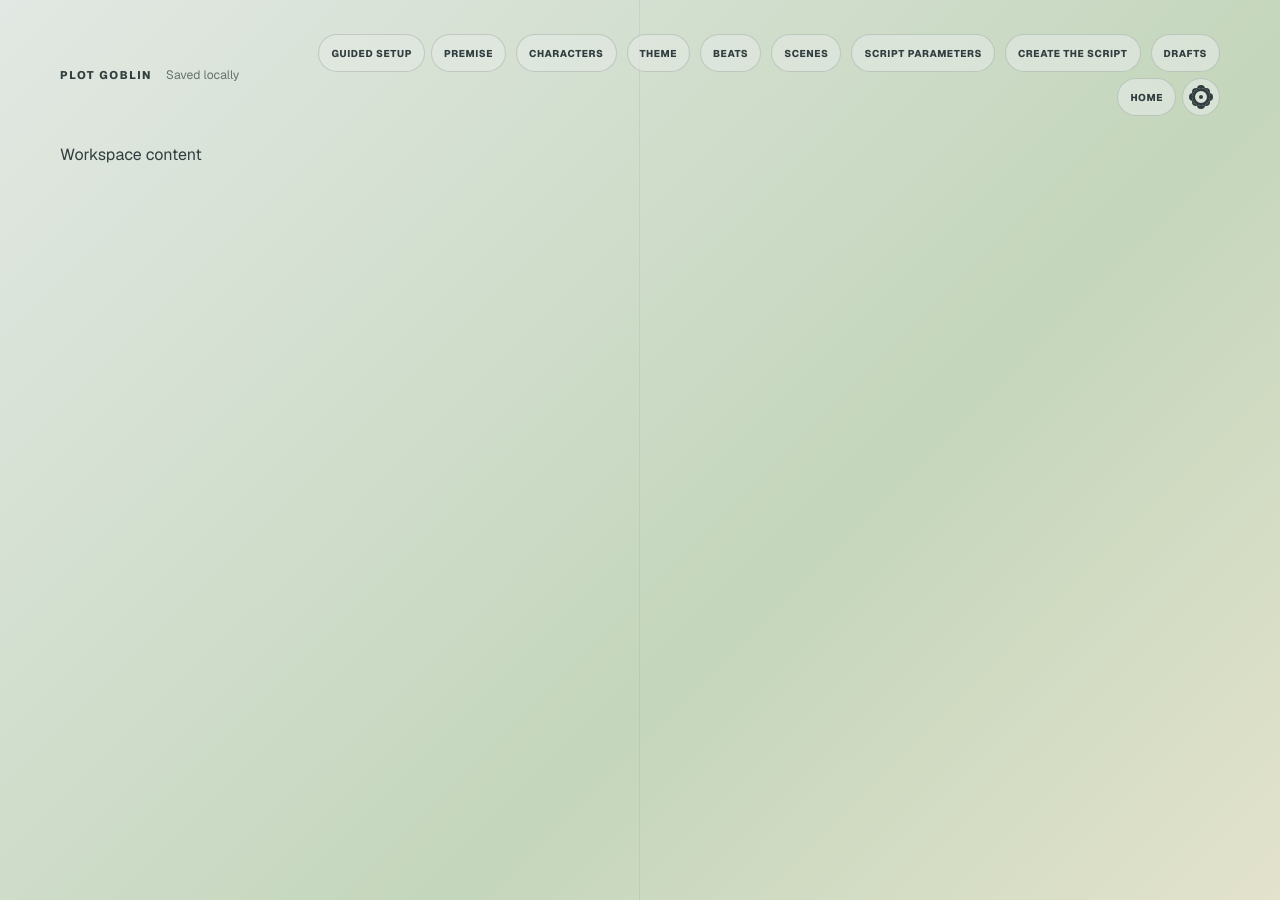
Scenario: WorkspaceShell › tests and saves a bridge access key from settings
This screenshot has width=1280, height=900.
Click the button named "Settings". click: [1201, 97]
box: [1182,78,1220,116]
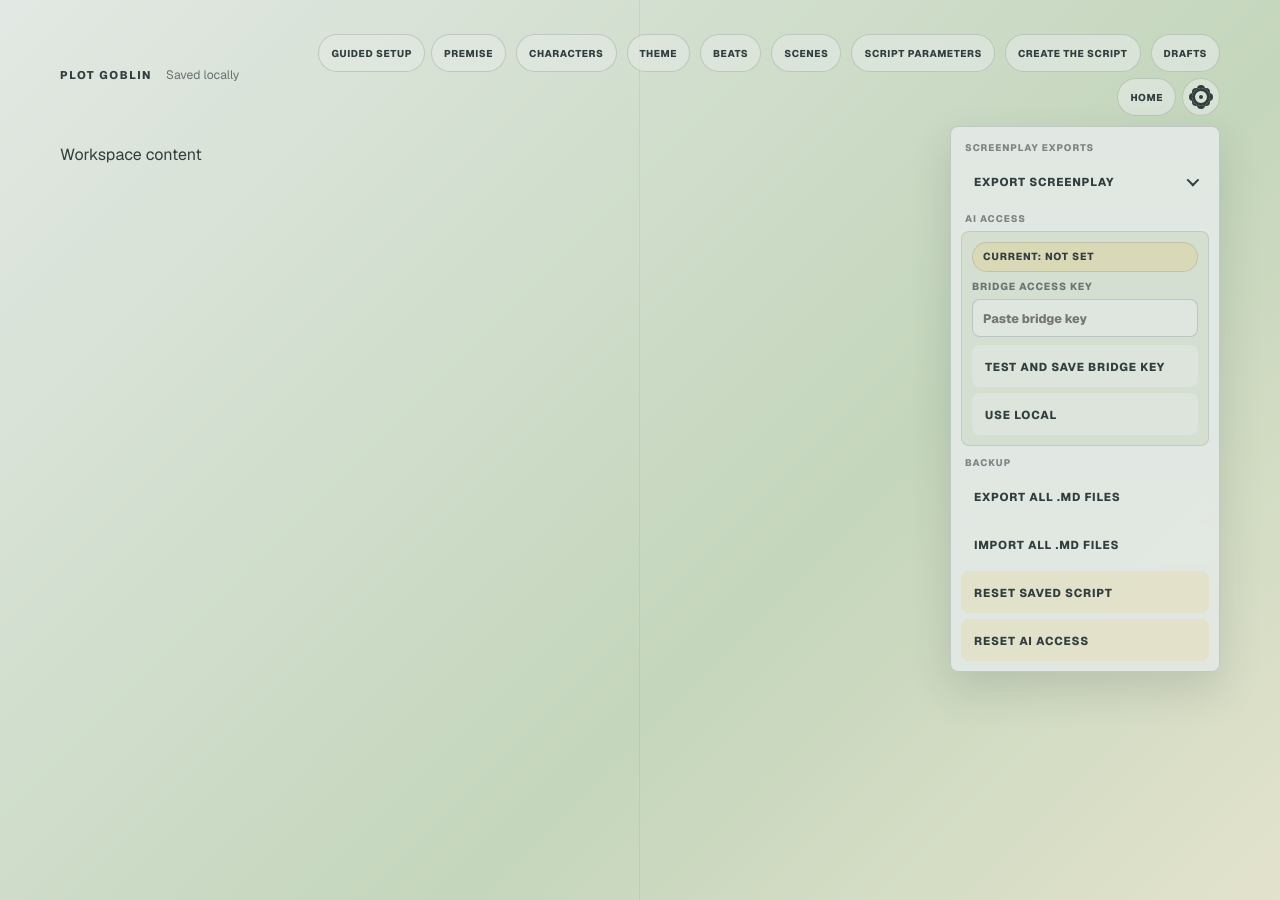
Type "friend-public-key" into the password field labelled "Bridge access key". click: [1085, 318]
box: [972,299,1198,337]
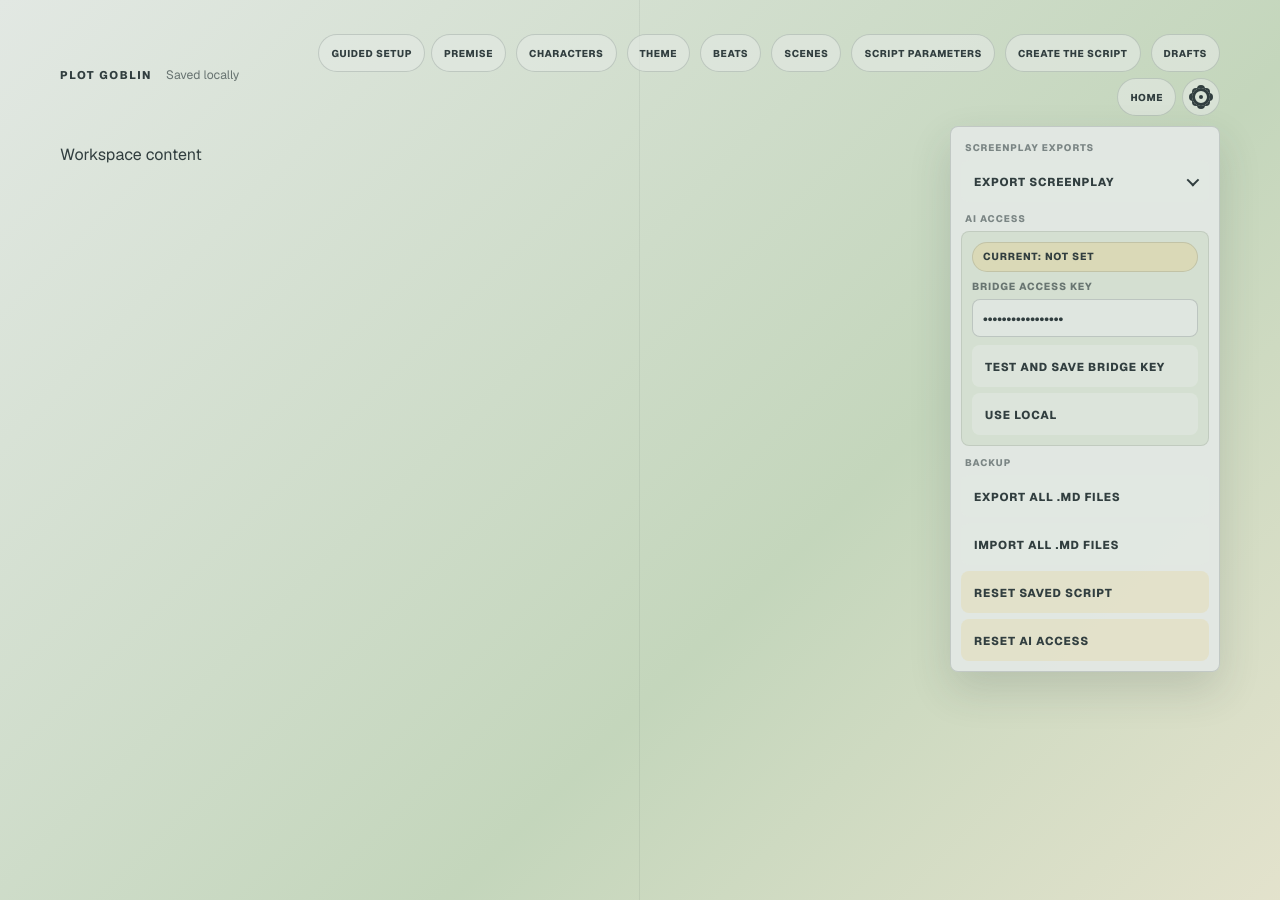
Click the button "Test and save bridge key". click: [1085, 366]
box: [972,345,1198,387]
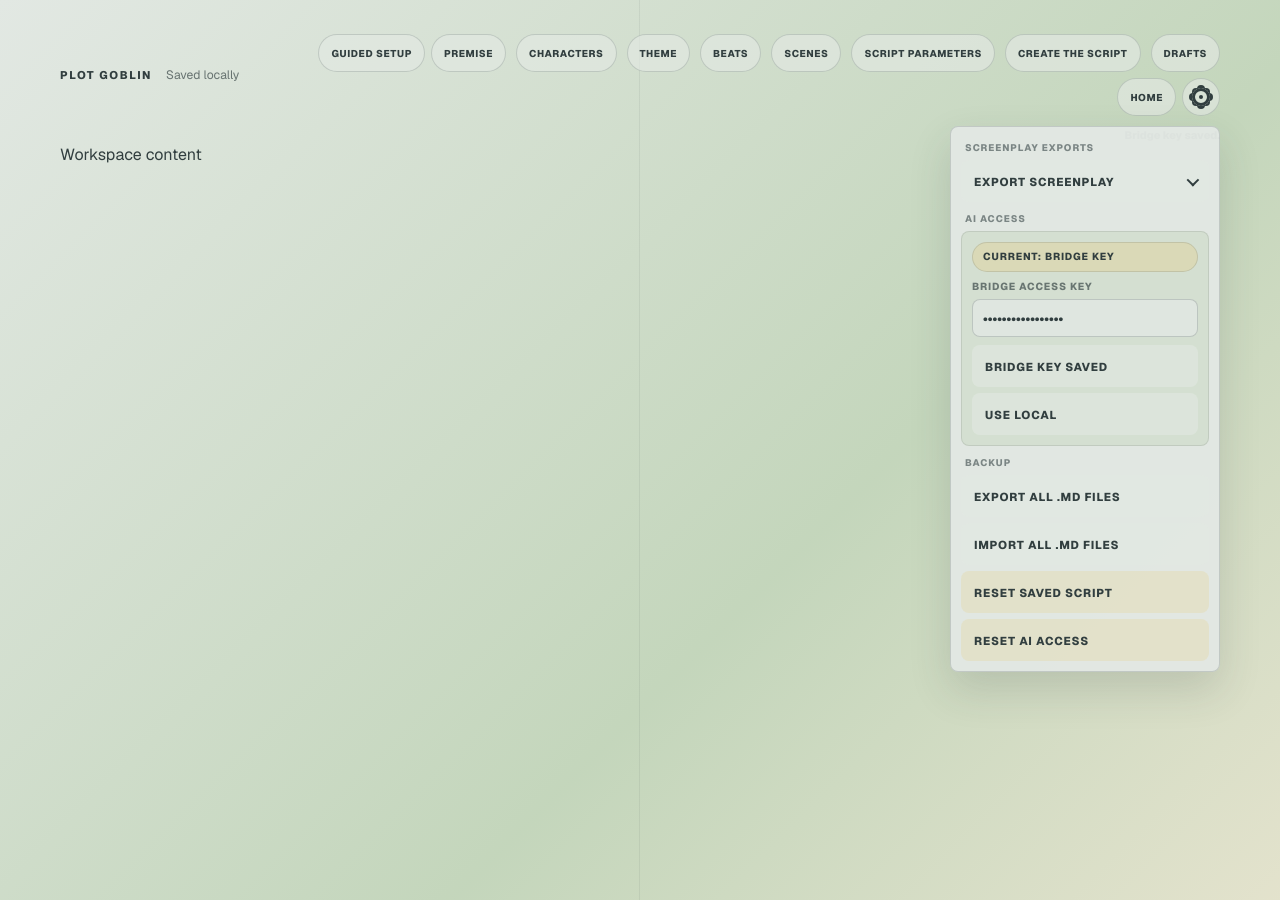
Expected: the text "Bridge key saved." is shown, [1124,128,1220,142]
Now the button "Bridge key saved" is shown, box [972,345,1198,387]
